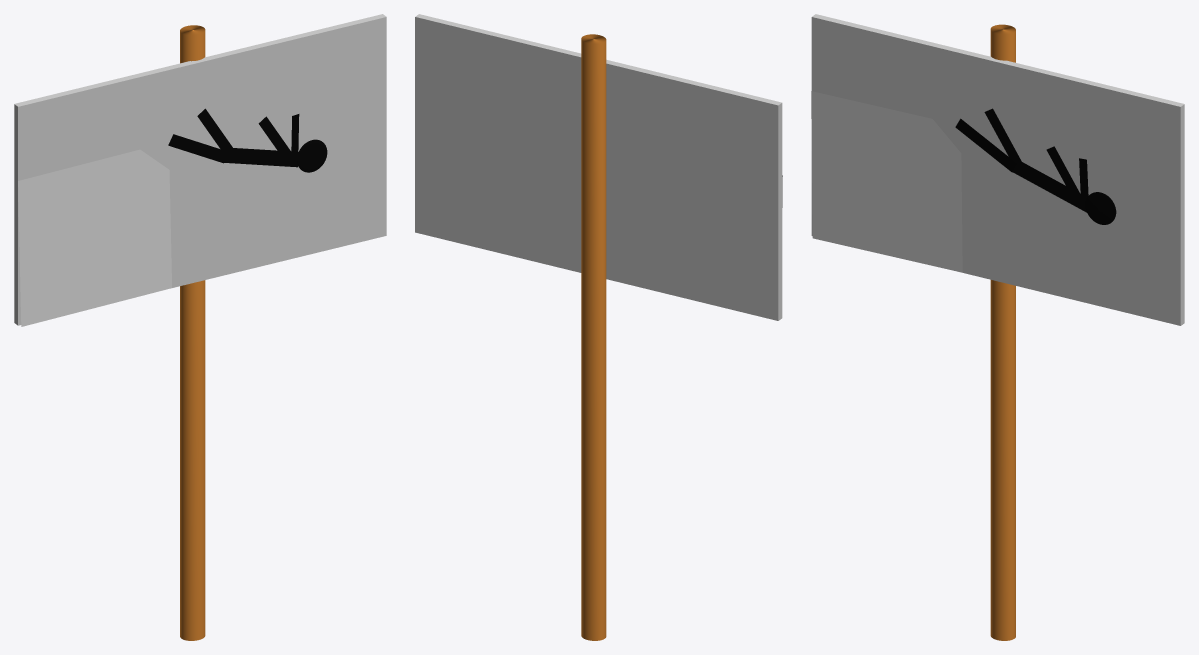
Rendered from tablichkapadaetchel.fbx.
3 renders of one model, left to right at view 1: azimuth 30°, elevation 25°; view 2: azimuth 150°, elevation 25°; view 3: azimuth 330°, elevation 25°, orthographic.
Visible parts, largest first — view 1: Cylinder, Plane, Sphere; view 2: Cylinder; view 3: Cylinder, Plane, Sphere.
Boxes of the visible parts, left/top/right/bottom form: Cylinder: left=14, top=14, right=386, bottom=640; Plane: left=18, top=149, right=171, bottom=326; Sphere: left=168, top=108, right=327, bottom=172; Cylinder: left=415, top=14, right=782, bottom=640; Cylinder: left=811, top=14, right=1184, bottom=640; Plane: left=811, top=91, right=962, bottom=272; Sphere: left=955, top=108, right=1116, bottom=224.
Bounding box in the file's own units: 253 × 396 × 21.
